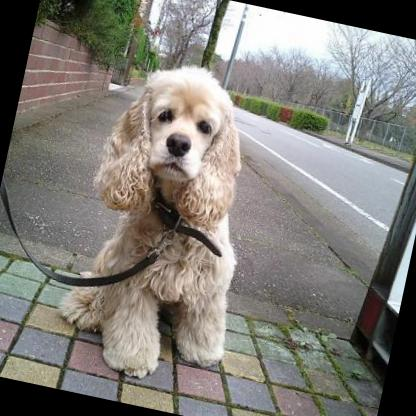cocker_spaniel: (52, 43, 281, 389)
